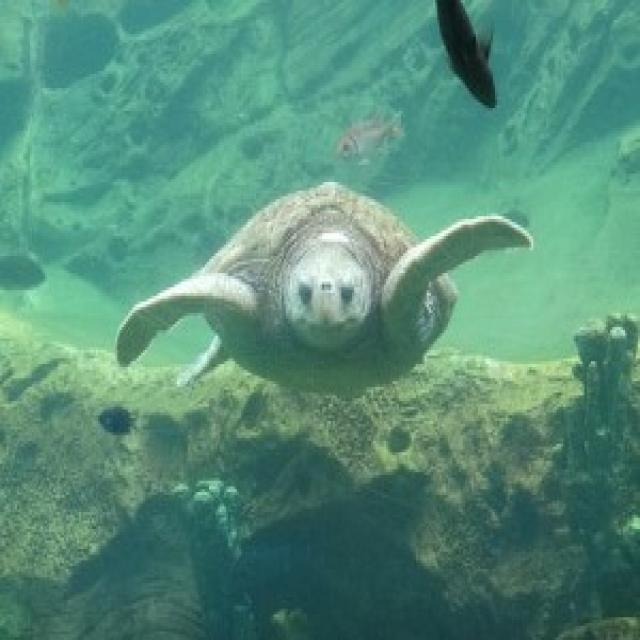Sea turtle: (76, 175, 553, 492)
